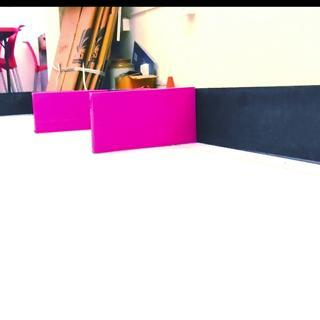xparking: (92, 87, 196, 150), (33, 89, 90, 137)
